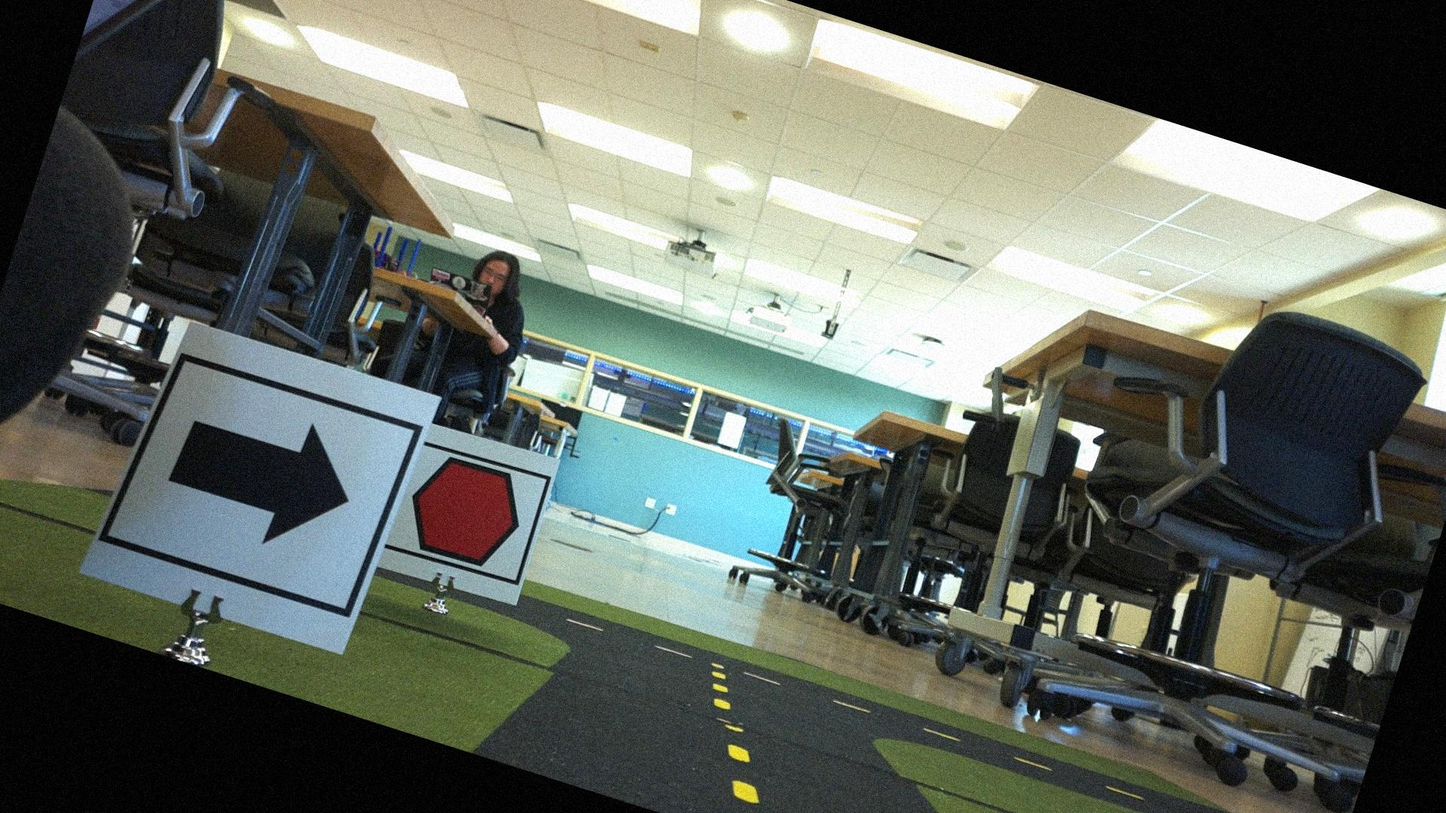stop: (387, 440, 541, 585)
turnright: (119, 357, 406, 620)
yellowline: (703, 740, 792, 812), (703, 668, 741, 714)
